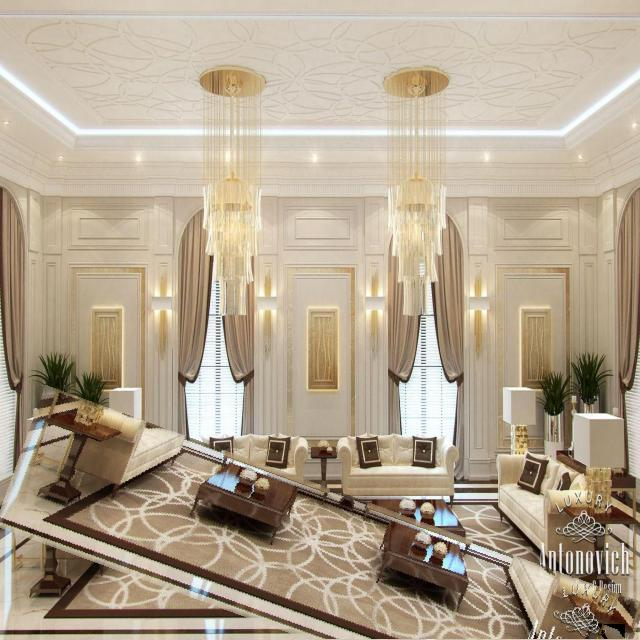floor: (0, 398, 537, 640), (599, 625, 625, 640)
